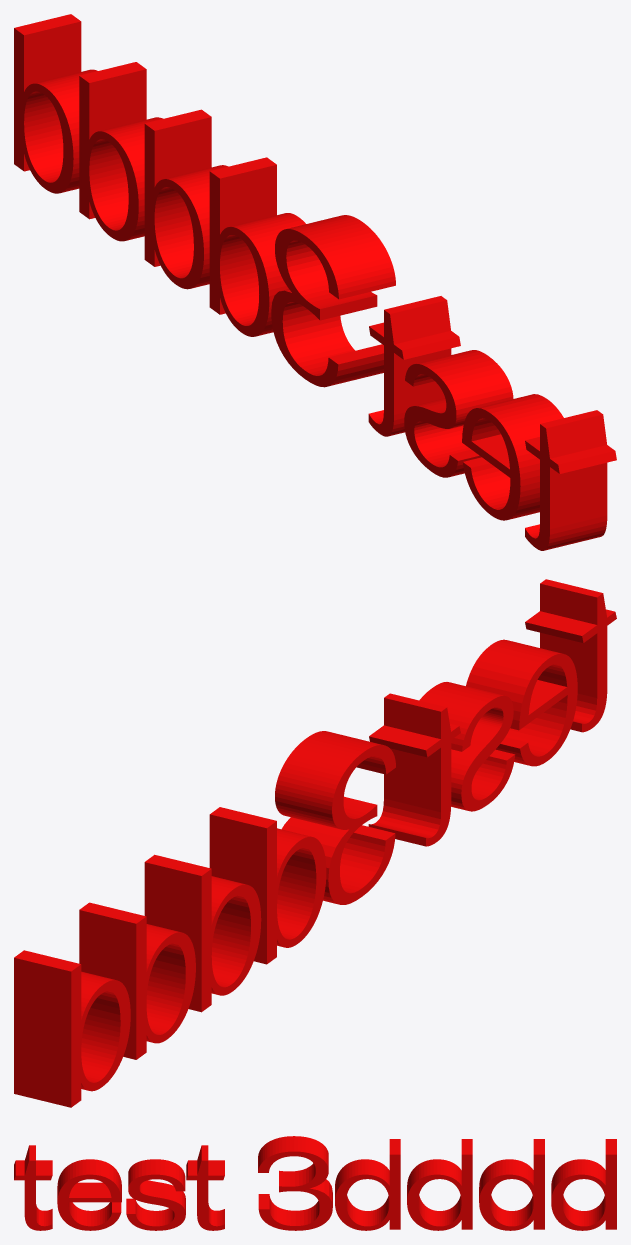
Rendered from 3dtext.glb.
The picture shows the model from 3 angles, top to bottom: view 1: azimuth 30°, elevation 25°; view 2: azimuth 150°, elevation 25°; view 3: azimuth 270°, elevation 25°; orthographic projection. The views are drawn at different scales.
Parts seen in each view (by area): view 1: 3D Text - d (×4), 3D Text - t (×2), 3D Text - 3, 3D Text - e, 3D Text - s; view 2: 3D Text - d (×4), 3D Text - t (×2), 3D Text - 3, 3D Text - e, 3D Text - s; view 3: 3D Text - d (×4), 3D Text - 3, 3D Text - e, 3D Text - t (×2), 3D Text - s.
Boxes of the visible parts, x1,y1,x2,y2 form: 3D Text - d (×4): (14,14,305,336); 3D Text - t (×2): (368,296,616,550); 3D Text - 3: (271,215,395,387); 3D Text - e: (462,394,563,520); 3D Text - s: (404,350,513,477); 3D Text - d (×4): (14,807,326,1107); 3D Text - t (×2): (368,579,616,846); 3D Text - 3: (275,731,395,904); 3D Text - e: (466,639,577,766); 3D Text - s: (419,682,515,811); 3D Text - d (×4): (335,1139,616,1230); 3D Text - 3: (258,1136,332,1230); 3D Text - e: (57,1159,121,1230); 3D Text - t (×2): (14,1145,224,1230); 3D Text - s: (126,1159,185,1230).
Bounding box in the file's own units: 0.015 × 0.036 × 0.248.
